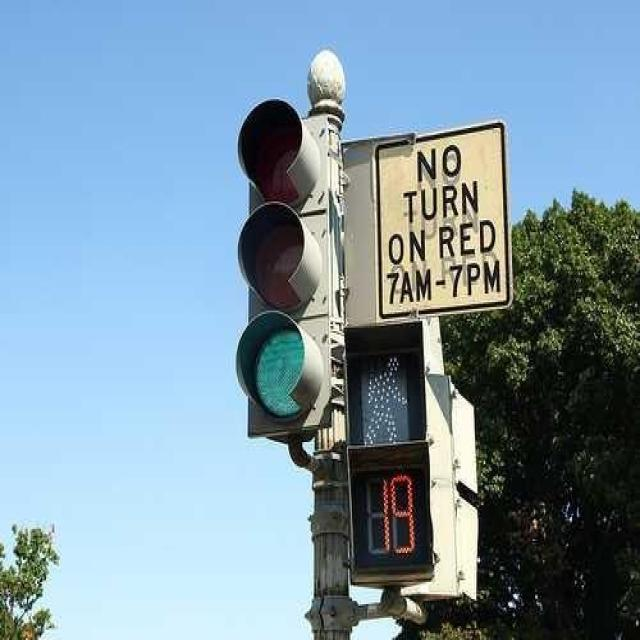Traffic Light -Green-: (227, 85, 340, 442)
